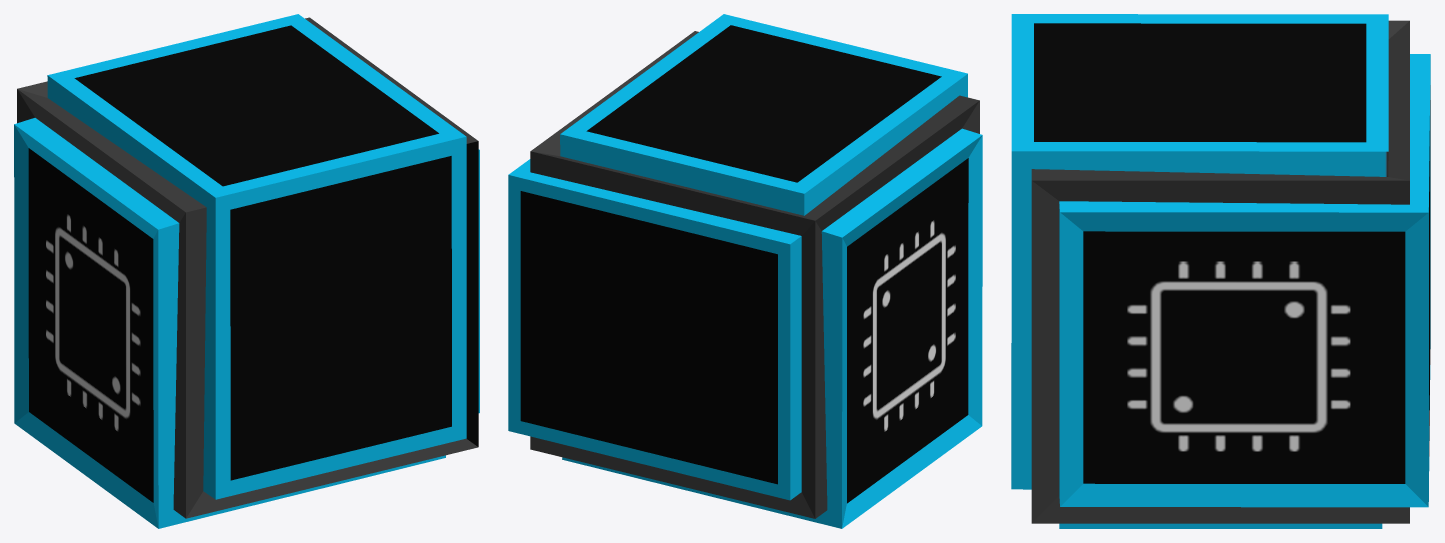
File: reactore.obj
The picture shows the model from 3 angles, left to right: view 1: azimuth 30°, elevation 25°; view 2: azimuth 150°, elevation 25°; view 3: azimuth 270°, elevation 25°; orthographic projection. The views are drawn at different scales.
Parts seen in each view (by area): view 1: Cube; view 2: Cube; view 3: Cube.
Boxes of the visible parts, x1,y1,x2,y2 form: Cube: (14,14,479,528); Cube: (508,14,982,528); Cube: (1011,14,1430,528).
Size of the model in its own units: 0.9875 by 0.9893 by 0.9924.
